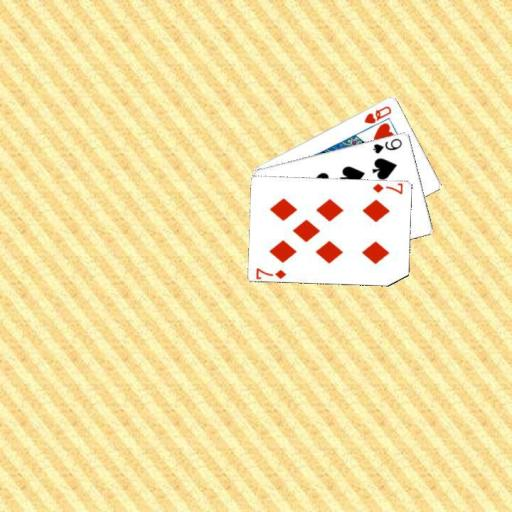7D: (370, 181, 405, 196), (253, 265, 288, 280)
9S: (370, 135, 403, 155)
QH: (361, 103, 393, 126)
